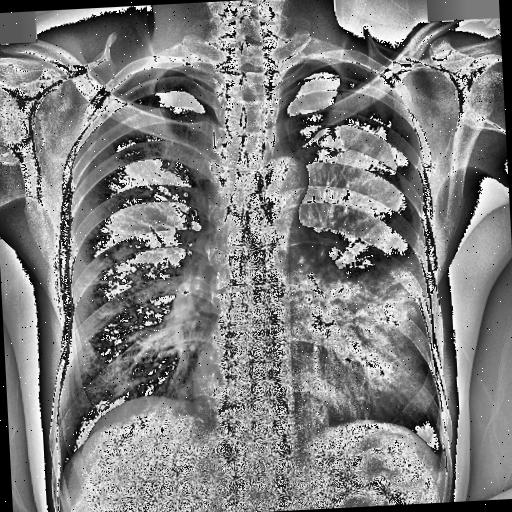0- Aortic enlargement: (260, 154, 310, 198)
4- Consolidation: (302, 238, 436, 428), (292, 257, 439, 427), (304, 261, 443, 434)
6- Infiltration: (83, 240, 169, 318), (90, 230, 164, 308), (74, 242, 166, 288), (82, 349, 158, 404)
7- Lung Opacity: (90, 230, 164, 308)
